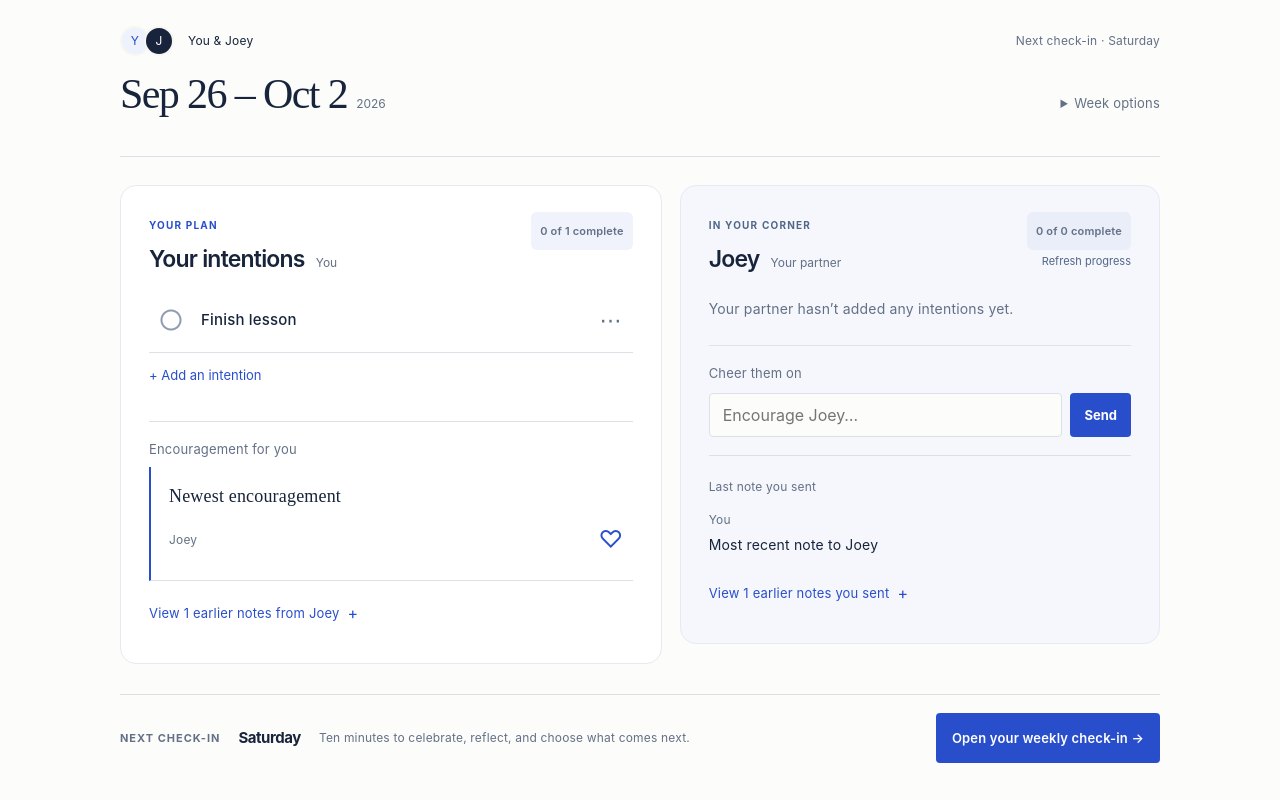
Test: many notes keep the latest encouragement visible and the send field reachable
Expected: the text "Newest encouragement" is shown, 169,486 -> 341,506
Click the heading "View 1 earlier notes from Joey".
click(244, 613)  # box 149,605 -> 340,621
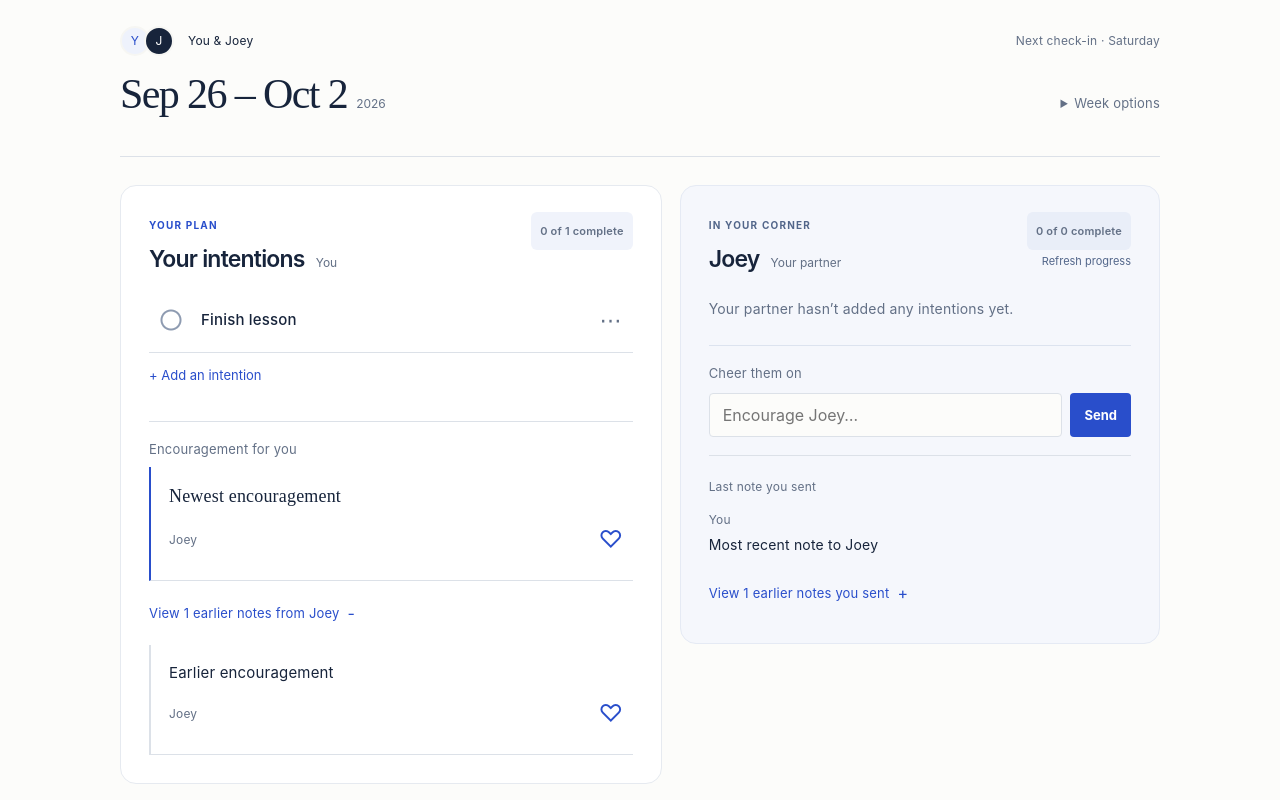
Expected: the text "Most recent note to Joey" is shown, 709,534 -> 878,555
Expected: the text "Earlier encouragement" is shown, 169,663 -> 334,682
